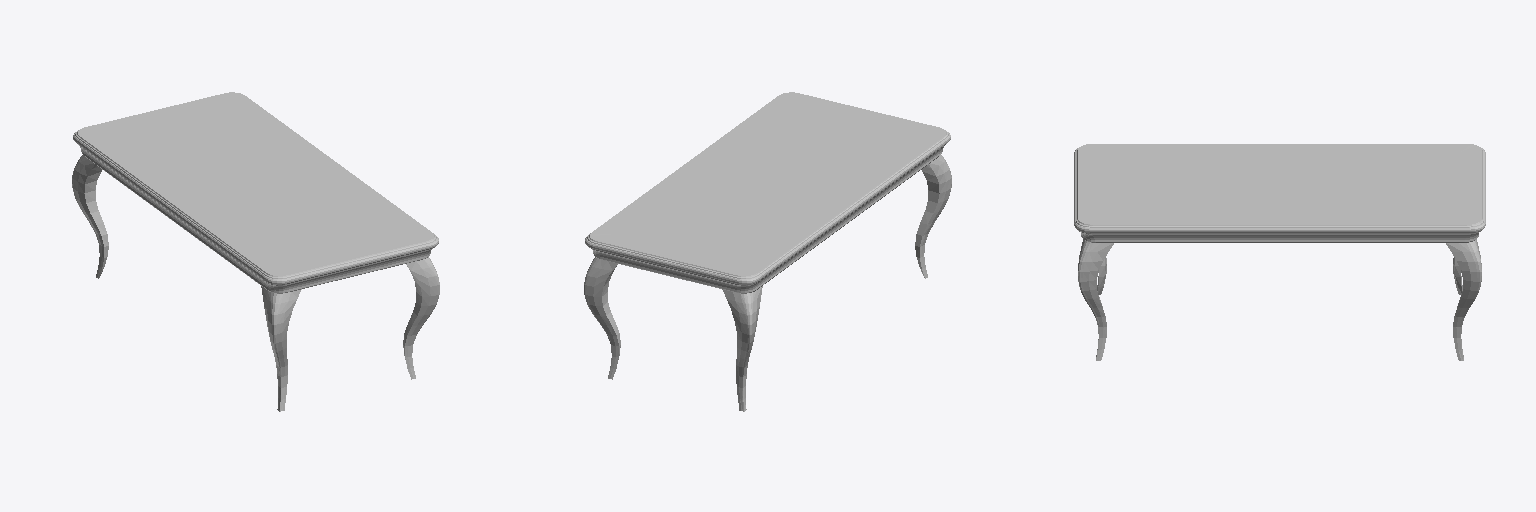
File: coffeetable1.obj
The picture shows the model from 3 angles: view 1: azimuth 30°, elevation 25°; view 2: azimuth 150°, elevation 25°; view 3: azimuth 270°, elevation 25°; orthographic projection.
Visible parts, largest first — view 1: coffetable; view 2: coffetable; view 3: coffetable.
Part boxes in pixels (x1,y1,x2,y2): coffetable: (72,92,439,411); coffetable: (584,92,951,411); coffetable: (1074,144,1485,360).
Size of the model in its own units: 15.7 by 12.52 by 32.57.